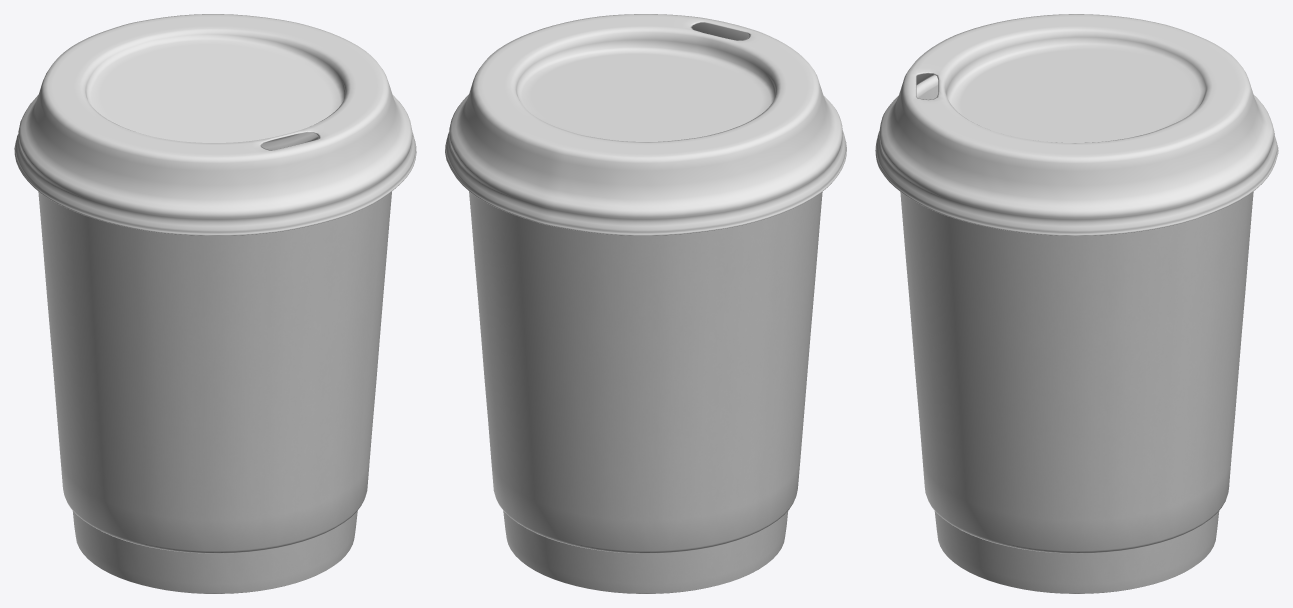
The picture shows the model from 3 angles, left to right: view 1: azimuth 30°, elevation 25°; view 2: azimuth 150°, elevation 25°; view 3: azimuth 270°, elevation 25°; orthographic projection.
Parts seen in each view (by area): view 1: models; view 2: models; view 3: models.
Boxes of the visible parts, bbox=[...] form: models: bbox=[14, 14, 416, 593]; models: bbox=[445, 14, 846, 593]; models: bbox=[875, 14, 1278, 593].
Size of the model in its own units: 0.0818 by 0.1006 by 0.0818.
3 materials, 2 textured.
